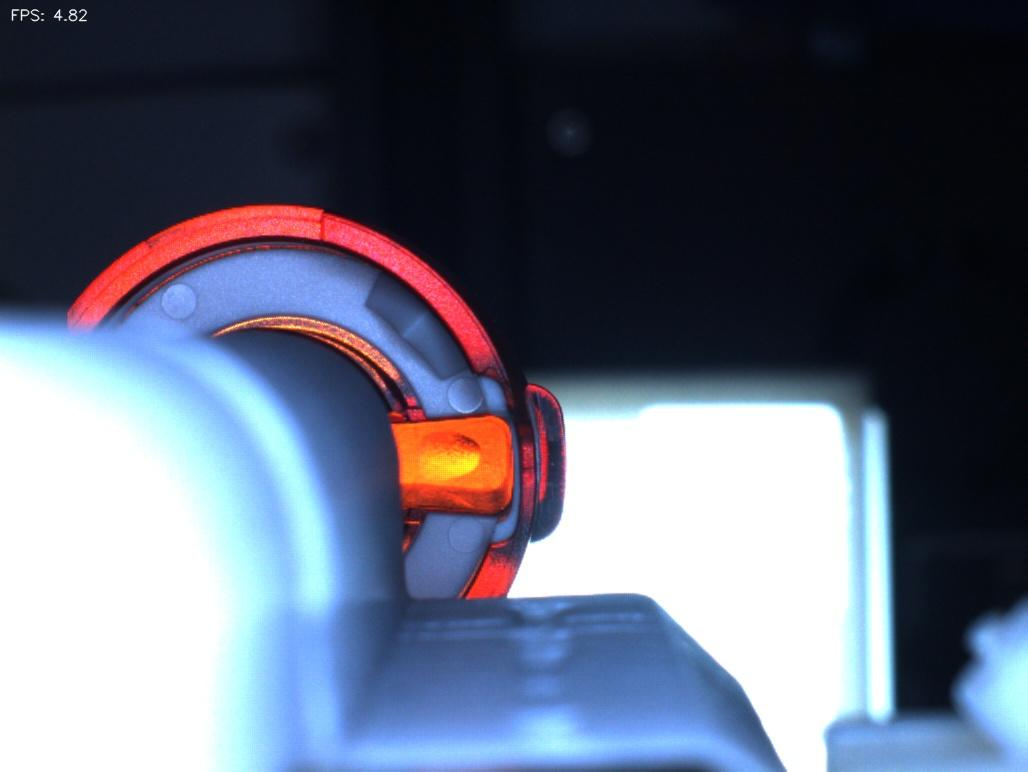Retassure: (403, 424, 500, 496)
